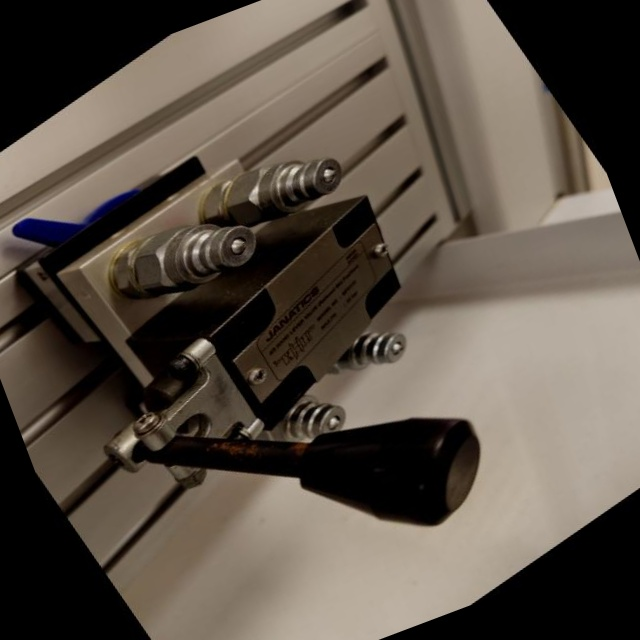4by3 hand lever valve: (0, 0, 588, 640)
